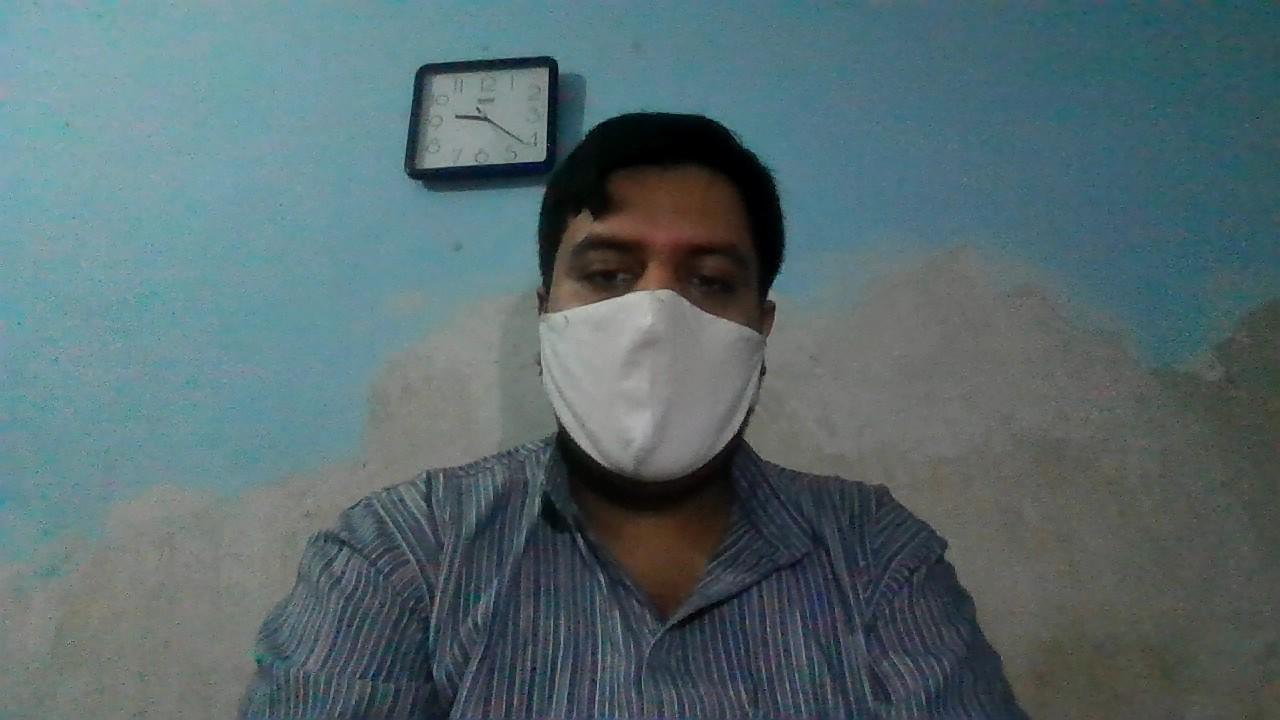Mask: (533, 286, 774, 485)
